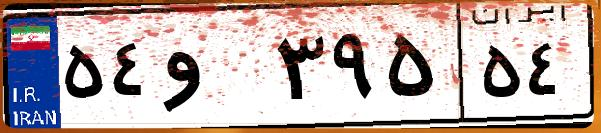3: (270, 28, 330, 110)
4: (525, 38, 570, 115), (110, 28, 158, 98)
5: (385, 28, 445, 110), (57, 26, 110, 100), (475, 38, 525, 113)
9: (330, 28, 385, 110)
و: (158, 20, 270, 120)
